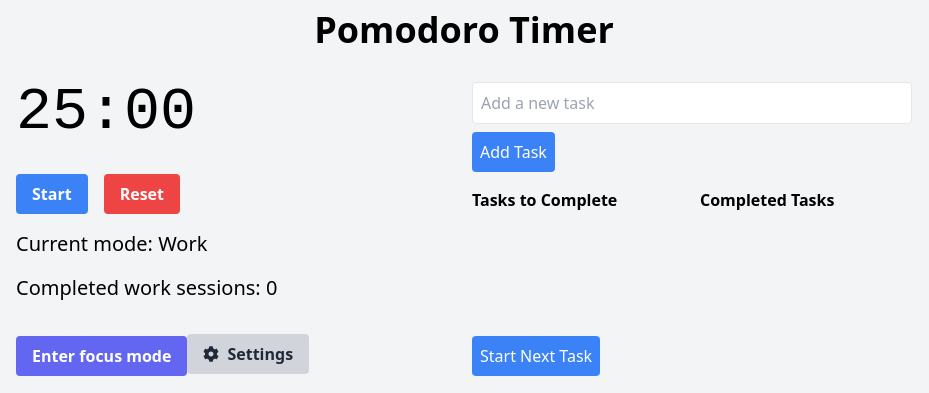
Test: App – timer logic › resets the timer to current mode duration
Step 1. Click the button "Start" → (52, 194), box [16,174,88,214]
Wait 5000 ms
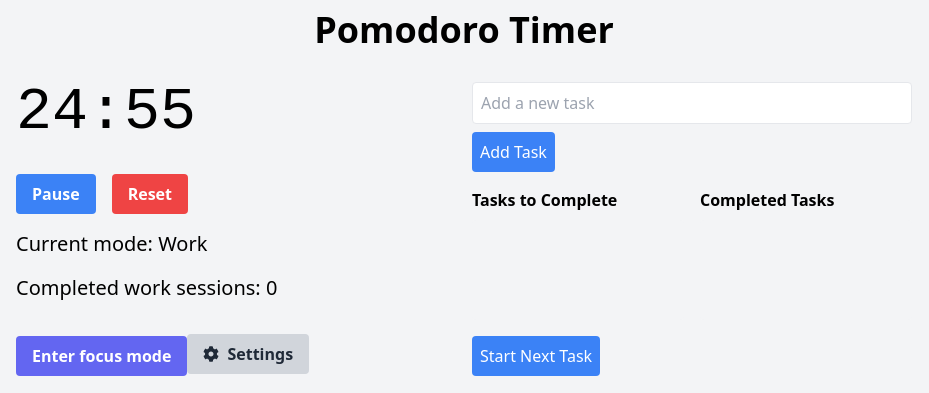
Step 2. Click the button "Pause" → (56, 194), box [16,174,96,214]
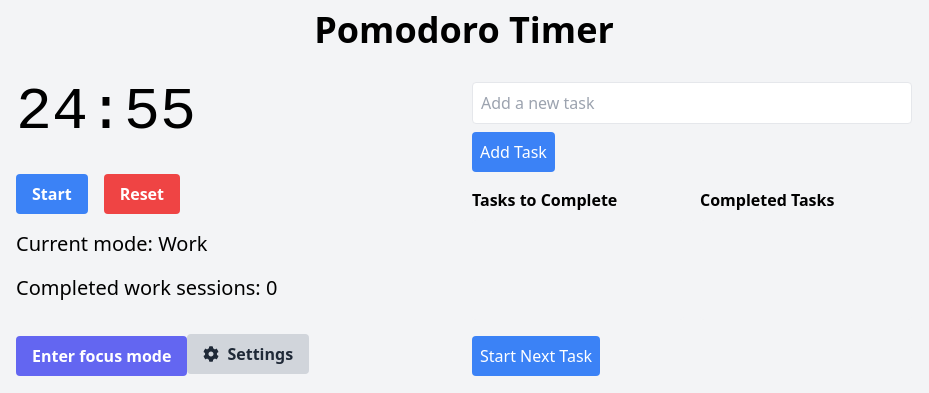
Step 3. Click the button "Reset" → (142, 194), box [104,174,180,214]
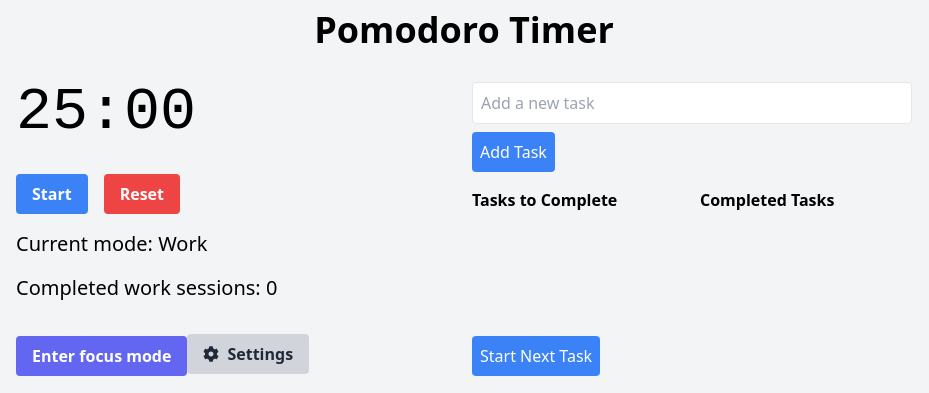
Check: the button "Start" is shown, box [16,174,88,214]
Check: the text "25:00" is shown, box [16,78,196,146]
